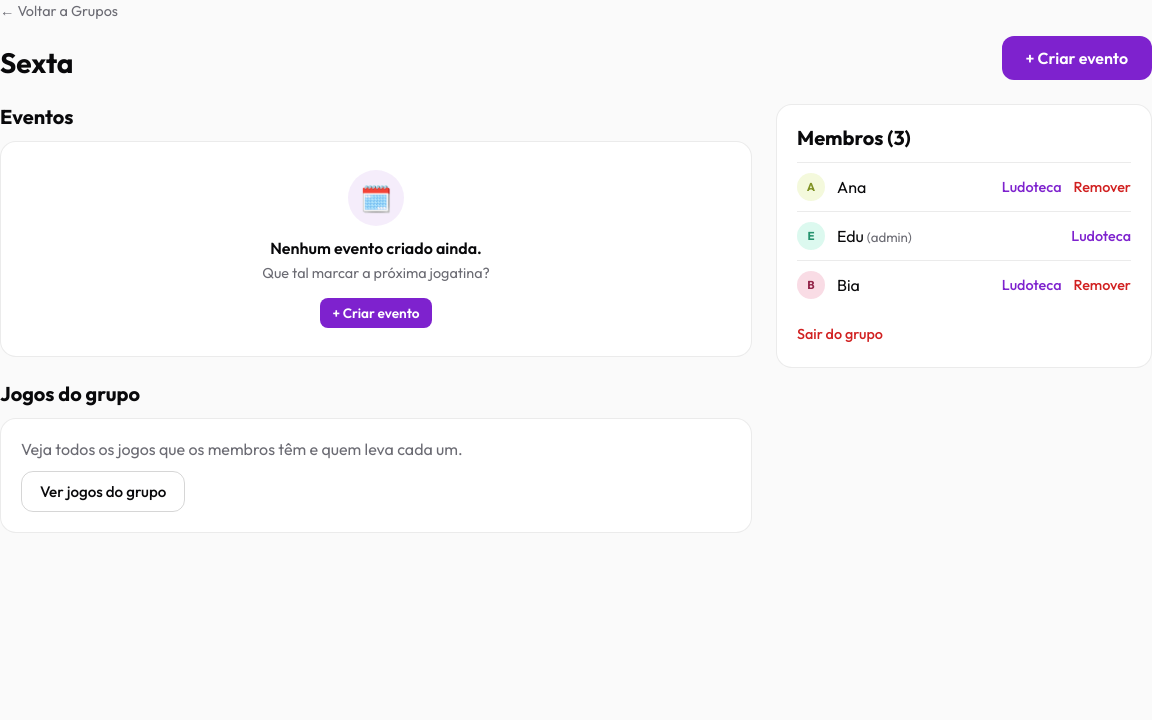
Test case: Grupo — sair › o admin é avisado de que a administração passa ao membro mais antigo
The image size is (1152, 720).
Expected: the heading "Sexta" is shown, [0, 46, 73, 80]
What coordinates should you click on to do the following:
click the button "Sair do grupo"
I would click on:
 (840, 334)
Its box is [797, 321, 883, 347].
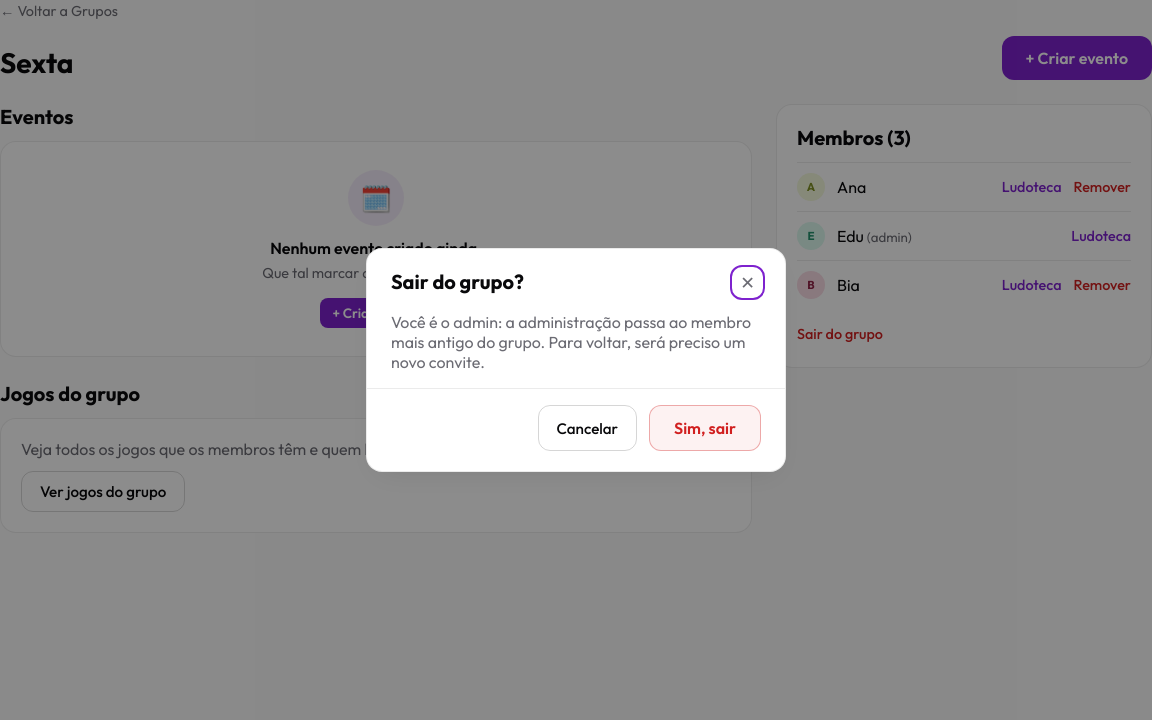
Expected: the text "administração passa ao membro mais antigo" is shown, [391, 312, 751, 352]
